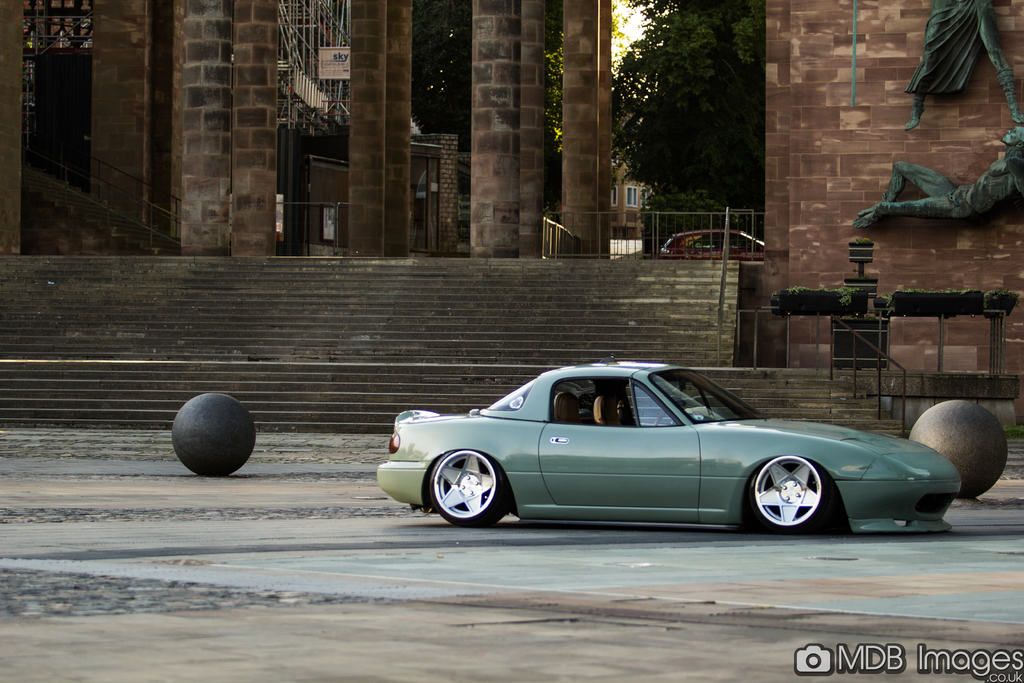Ball: (909, 398, 1009, 500), (172, 394, 257, 475)
